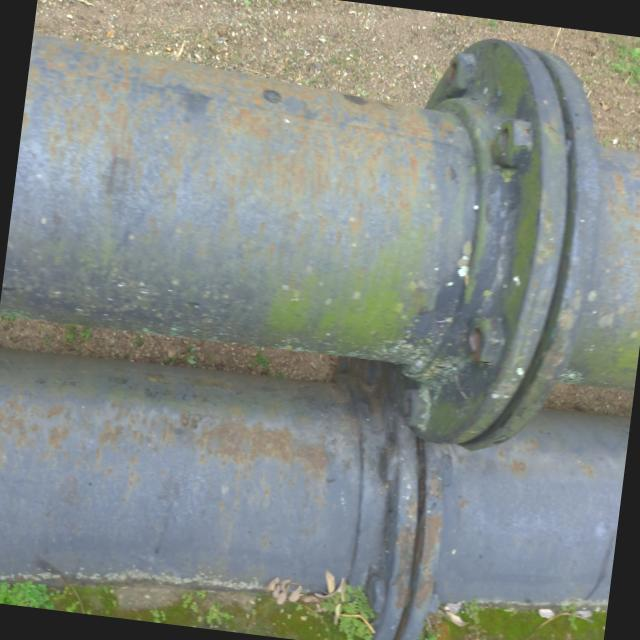gas: (0, 30, 640, 403), (0, 348, 629, 632)
